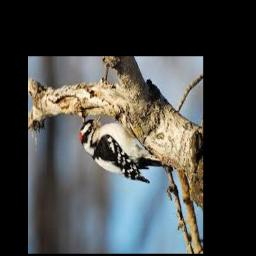Woodpecker: (80, 113, 168, 184)
